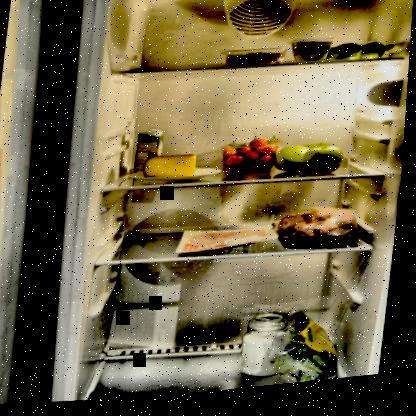apple: (278, 143, 347, 186)
cheese: (143, 152, 201, 187)
chicken: (271, 204, 371, 261)
heavy_cream: (132, 130, 169, 180)
lime: (330, 47, 388, 71)
shrimp: (224, 53, 289, 75)
spinach: (270, 310, 358, 391)
strawberries: (225, 140, 283, 178)
